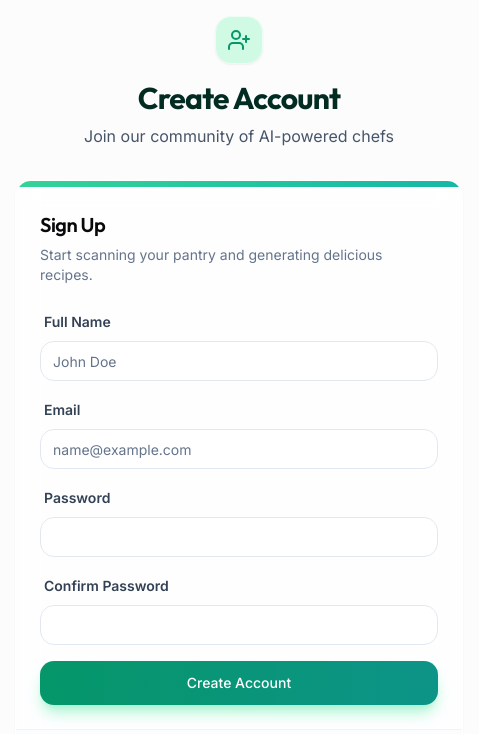
RegisterPage › shows validation errors for empty fields
The image size is (479, 734).
Step 1. Click the button "Create Account" → (239, 683), box [40,661,438,705]
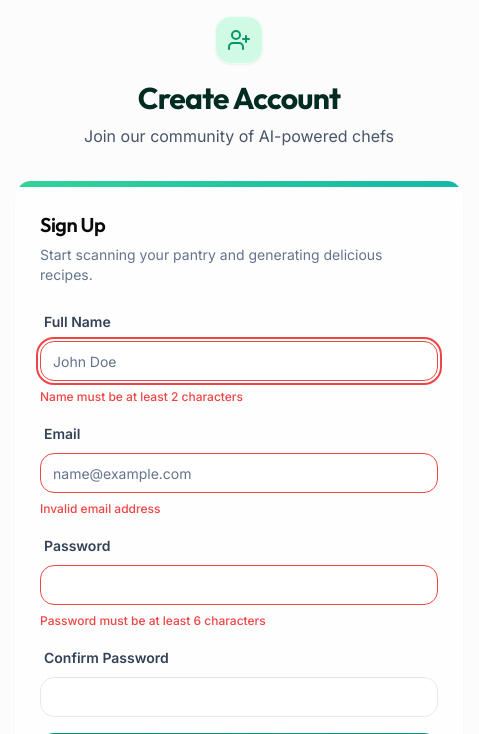
Now the text "Name must be at least 2 characters" is shown, box [40,389,243,404]
Now the text "Invalid email address" is shown, box [40,501,160,516]
Now the text "Password must be at least 6 characters" is shown, box [40,613,266,628]
